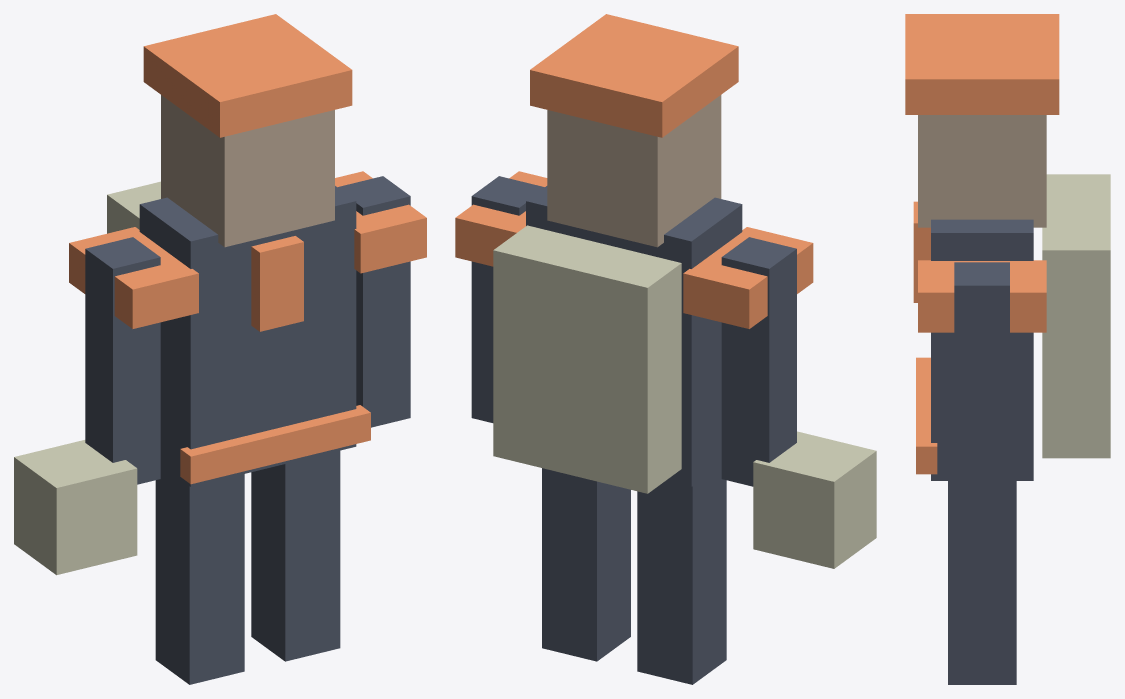
Rendered from 17_orin_cragwarden_keeper_of_maintenance.glb.
The picture shows the model from 3 angles, left to right: view 1: azimuth 30°, elevation 25°; view 2: azimuth 150°, elevation 25°; view 3: azimuth 270°, elevation 25°; orthographic projection.
Visible parts, largest first — view 1: Orin Cragwarden, Keeper of Maintenance; view 2: Orin Cragwarden, Keeper of Maintenance; view 3: Orin Cragwarden, Keeper of Maintenance.
Boxes of the visible parts, x1,y1,x2,y2 form: Orin Cragwarden, Keeper of Maintenance: (14, 14, 426, 684); Orin Cragwarden, Keeper of Maintenance: (455, 14, 876, 684); Orin Cragwarden, Keeper of Maintenance: (905, 14, 1110, 684).
Bounding box in the file's own units: 1.09 × 1.7 × 0.5275.
